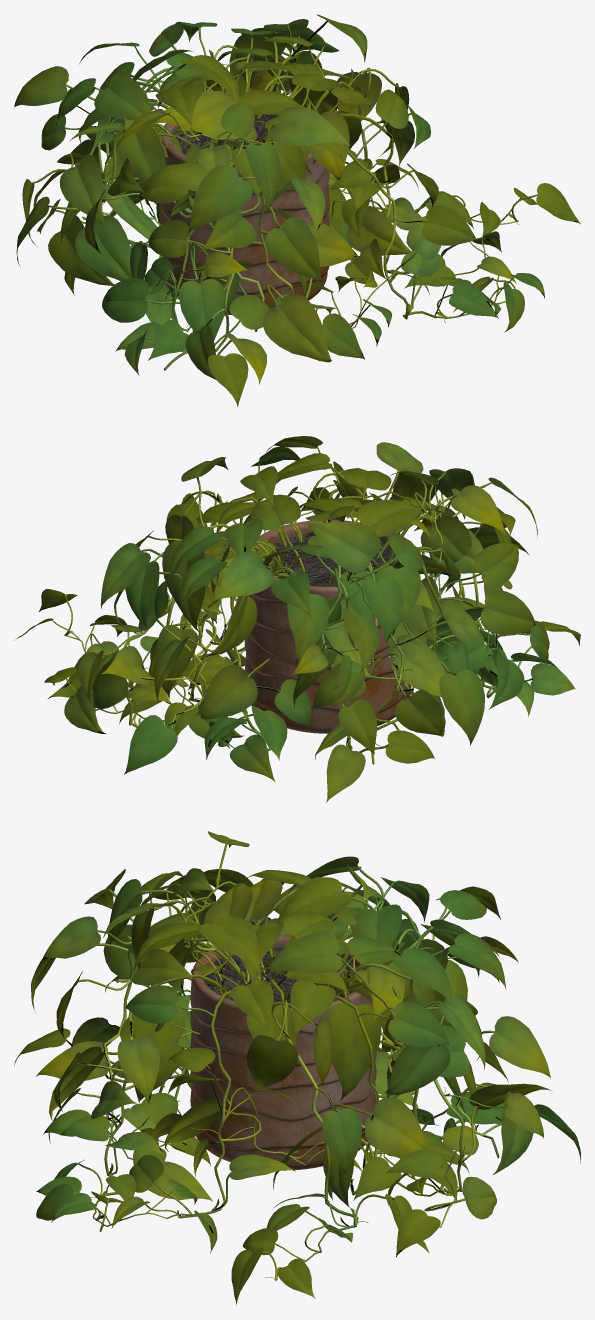
File: SM_Pothos_Potted.glb
3 views of the same model, one above another, from view 1: azimuth 30°, elevation 25°; view 2: azimuth 150°, elevation 25°; view 3: azimuth 270°, elevation 25° (orthographic). The views are drawn at different scales.
Visible parts, largest first — view 1: SM_Pothos_Potted; view 2: SM_Pothos_Potted; view 3: SM_Pothos_Potted.
Part boxes in pixels (<box>): SM_Pothos_Potted: <box>14,14,580,406</box>; SM_Pothos_Potted: <box>14,436,580,802</box>; SM_Pothos_Potted: <box>14,831,580,1305</box>.
Size of the model in its own units: 0.9593 by 0.4253 by 0.8522.
3 materials, 3 textured.
